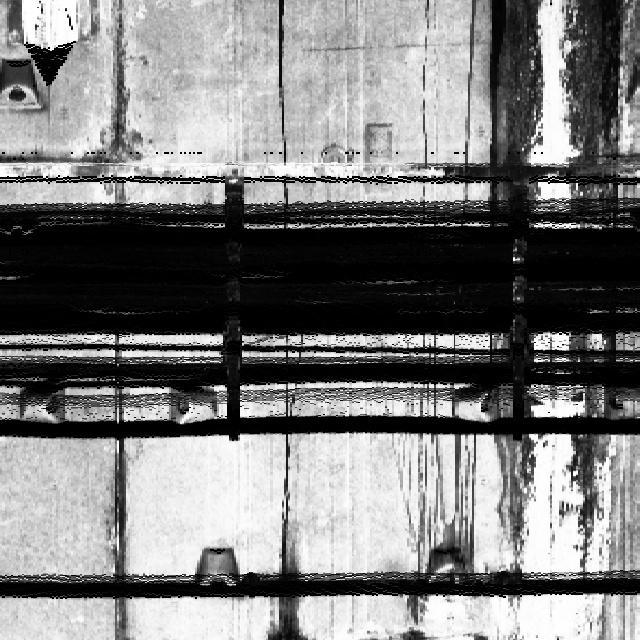leakage: (556, 0, 629, 565), (489, 0, 544, 596), (389, 377, 478, 580), (264, 518, 309, 639)
